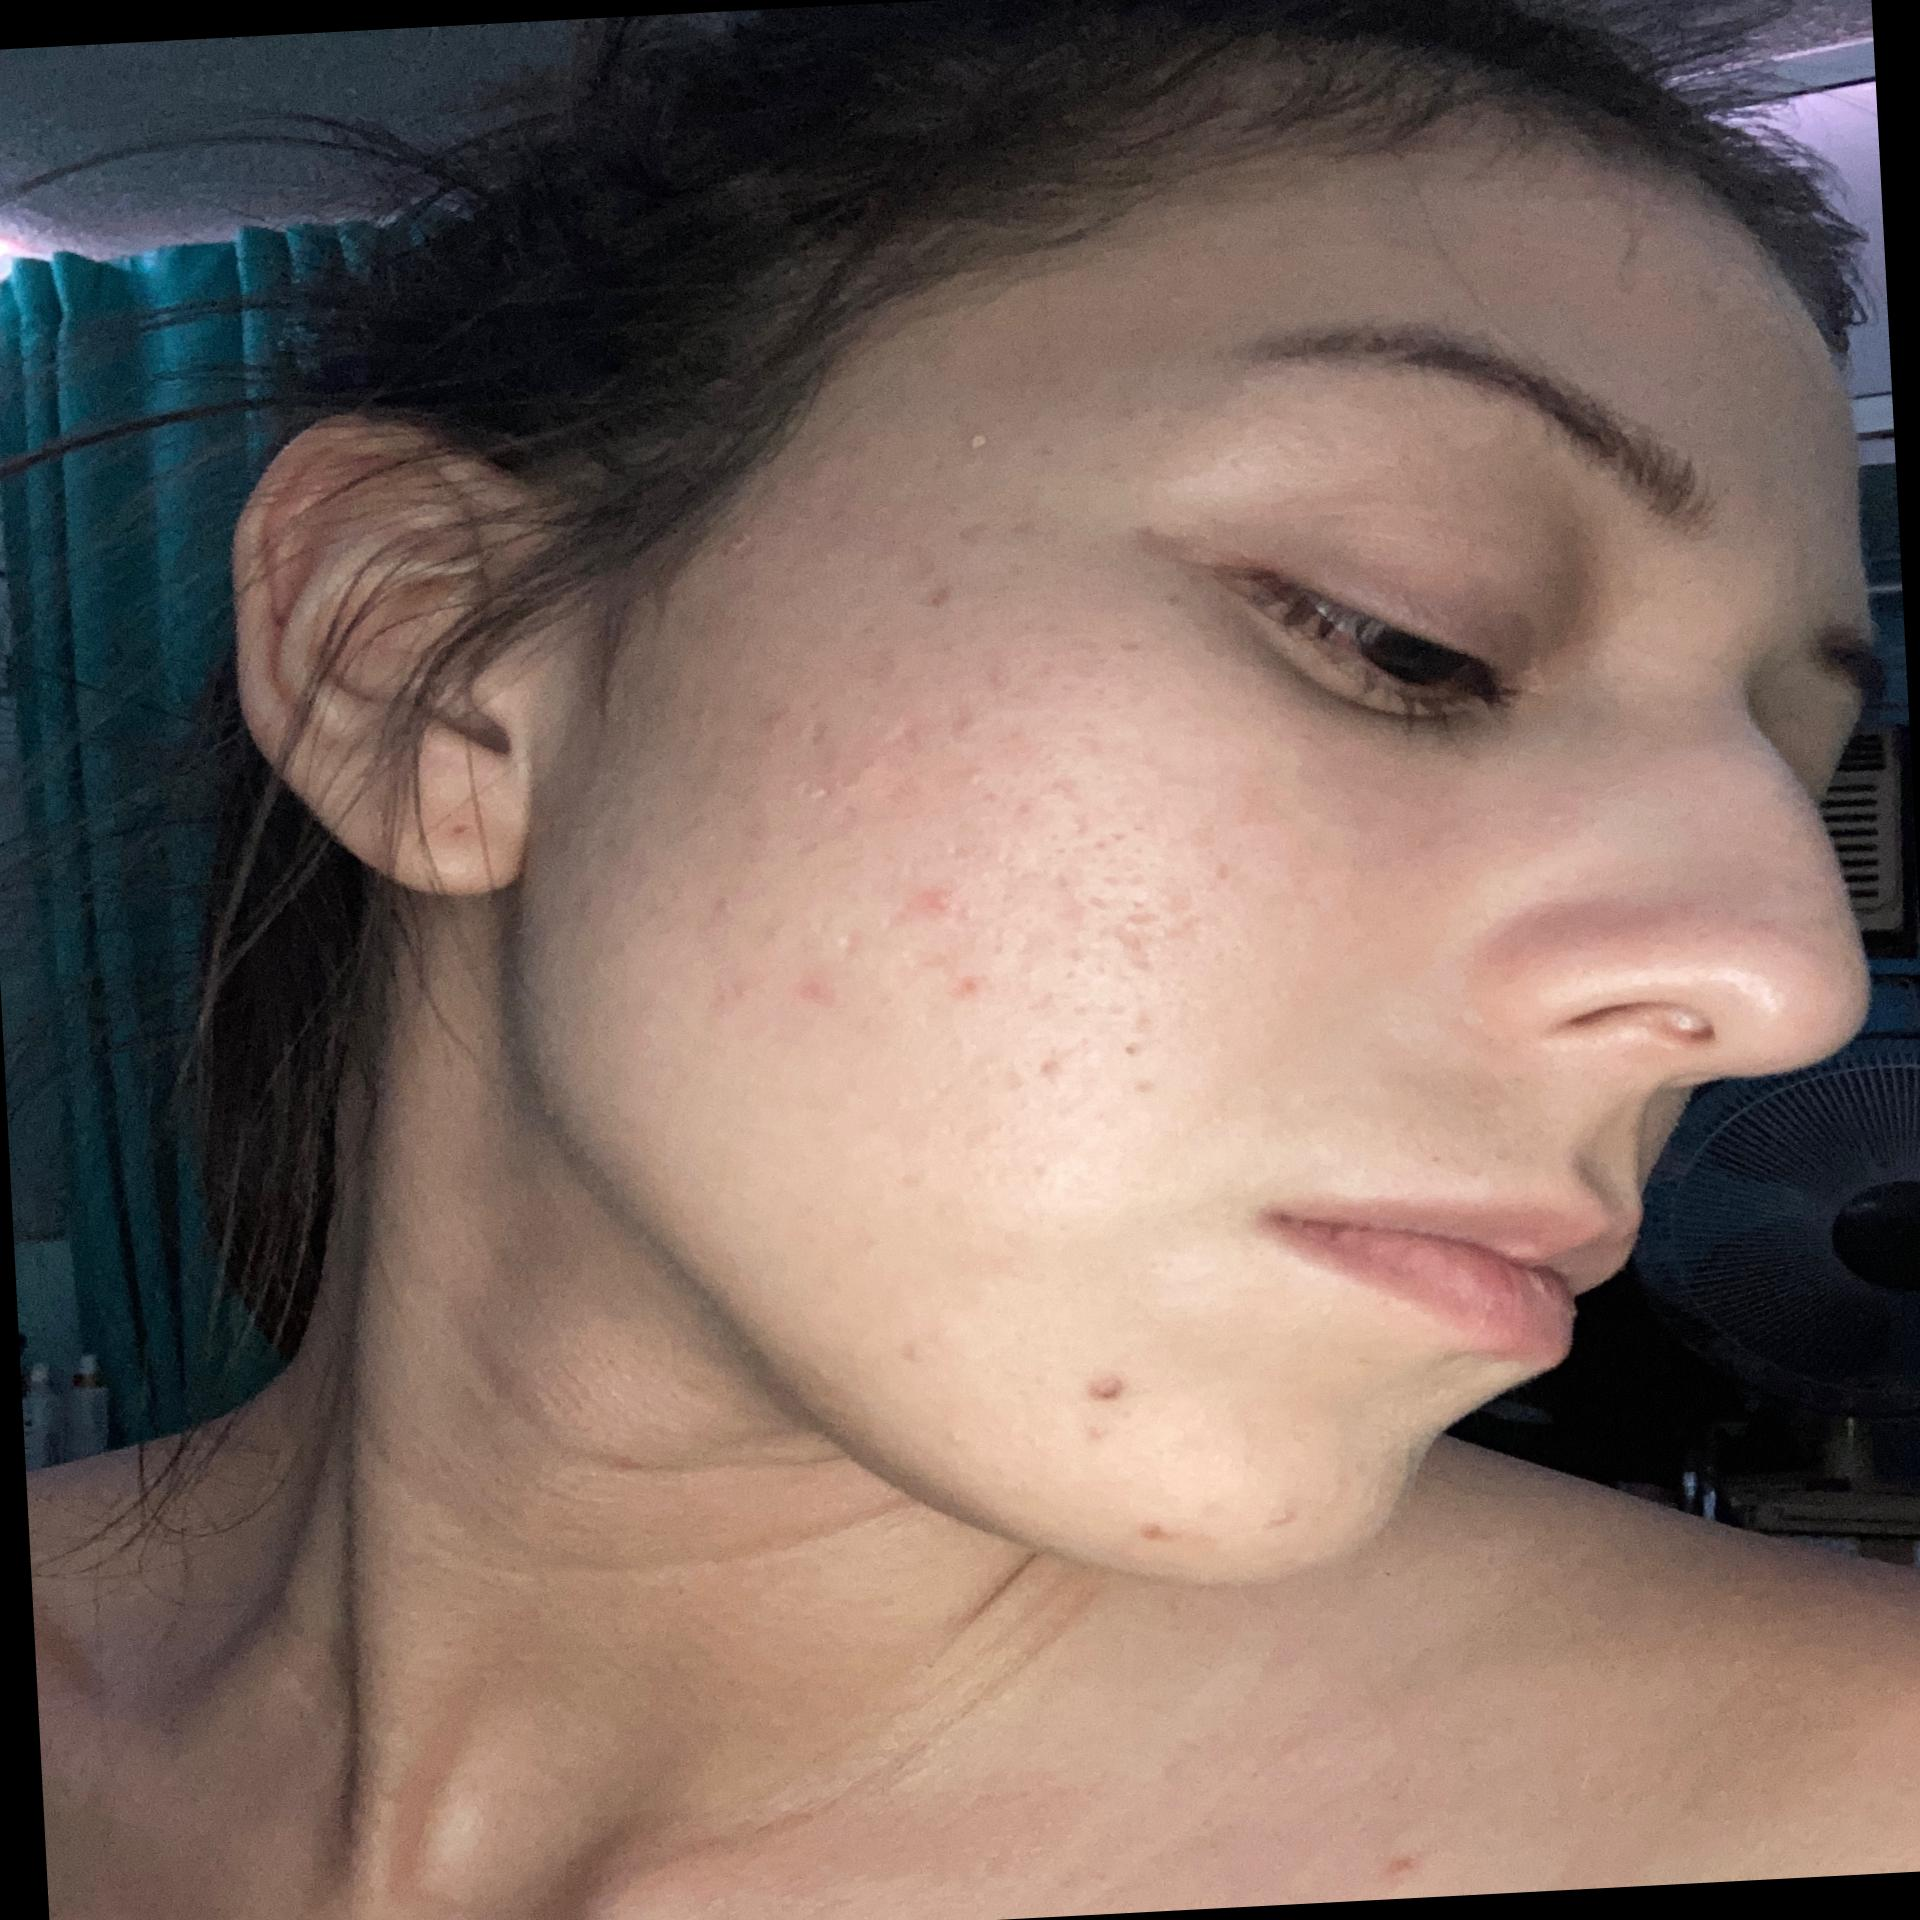Acne: (923, 763, 1073, 879), (995, 1023, 1169, 1101), (1090, 895, 1190, 986), (905, 506, 1046, 559), (659, 870, 767, 939), (937, 918, 1009, 1020), (874, 869, 981, 934), (1004, 927, 1071, 1025), (651, 972, 767, 1023), (1065, 809, 1124, 902), (765, 962, 846, 1016), (937, 695, 999, 754), (953, 649, 1022, 696), (1115, 1517, 1176, 1565), (744, 693, 802, 742), (543, 890, 617, 925), (1257, 1487, 1298, 1547), (916, 575, 958, 621), (941, 424, 992, 461), (828, 793, 870, 835)
